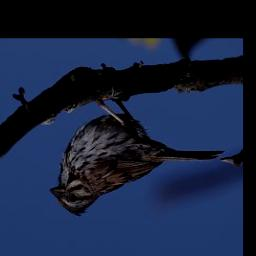Sparrow: (48, 88, 228, 220)
